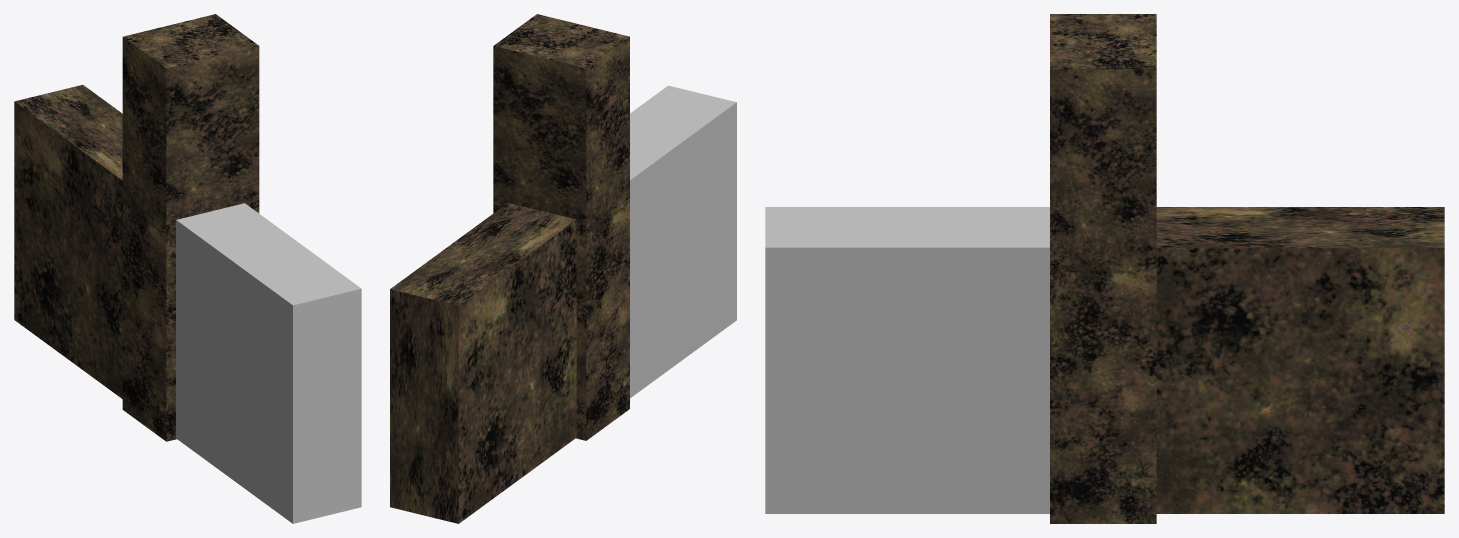
The model's file is JamSeinaPilari.fbx.
The picture shows the model from 3 angles, left to right: view 1: azimuth 30°, elevation 25°; view 2: azimuth 150°, elevation 25°; view 3: azimuth 270°, elevation 25°; orthographic projection. The views are drawn at different scales.
Parts seen in each view (by area): view 1: seina2, Pilari, Seina; view 2: Seina, Pilari, seina2; view 3: Seina, seina2, Pilari.
Boxes of the visible parts, x1,y1,x2,y2 form: seina2: (176, 203, 361, 523); Pilari: (122, 14, 259, 441); Seina: (14, 84, 122, 398); Seina: (390, 203, 576, 523); Pilari: (493, 14, 629, 440); seina2: (630, 85, 736, 398); Seina: (1156, 207, 1444, 513); seina2: (765, 207, 1049, 513); Pilari: (1050, 14, 1156, 523).
Bounding box in the file's own units: 446 × 1707 × 2311.
